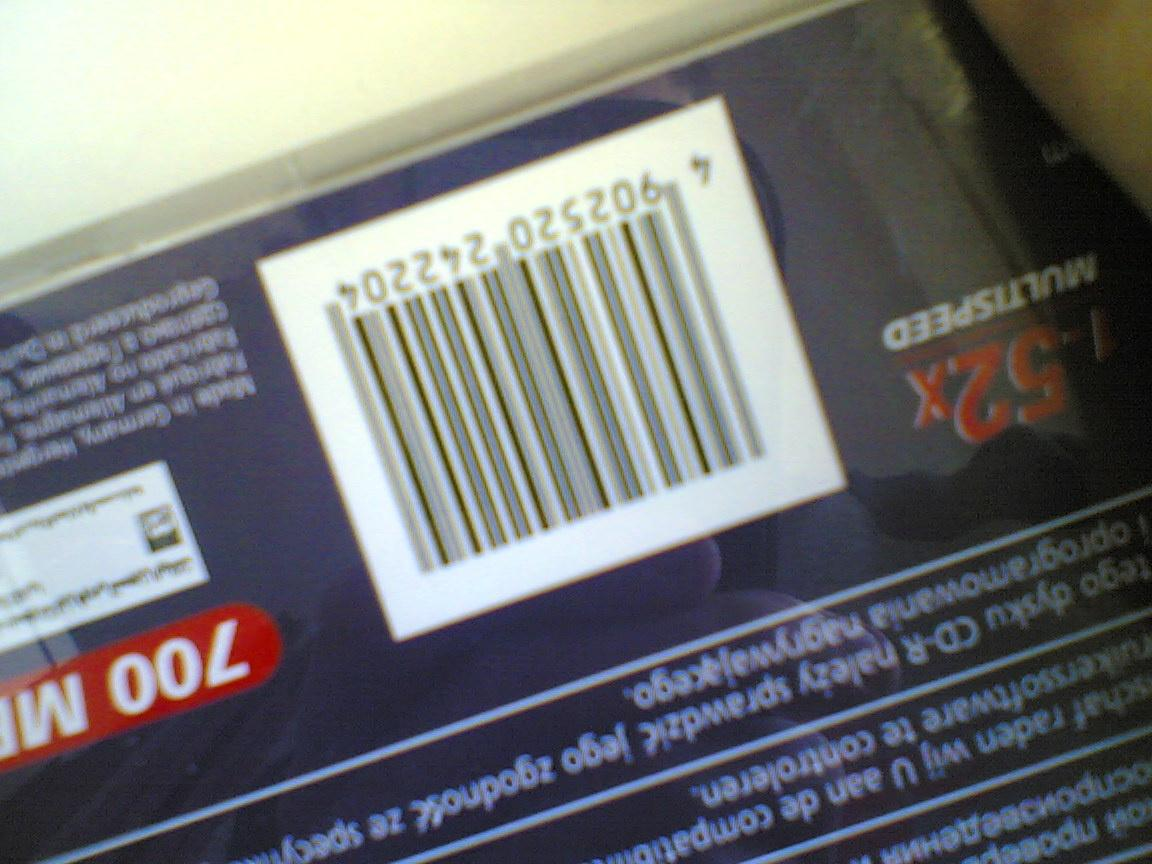Barcode: (256, 99, 850, 630)
